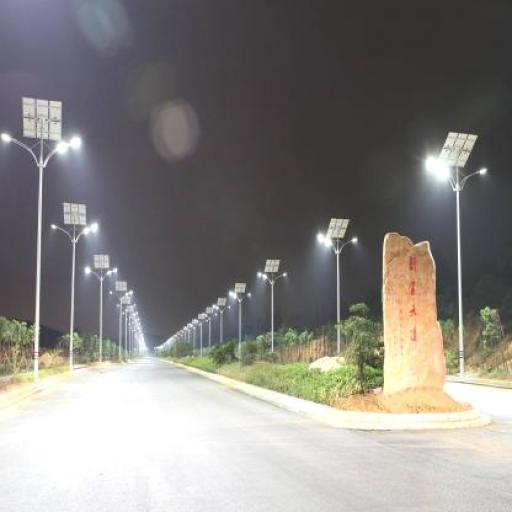street light: (1, 134, 81, 382), (428, 156, 488, 376), (50, 224, 100, 368), (318, 233, 358, 355), (84, 266, 118, 363), (257, 270, 288, 356), (110, 290, 132, 360), (229, 290, 251, 357), (213, 303, 231, 349), (202, 312, 217, 356), (196, 318, 209, 355)
